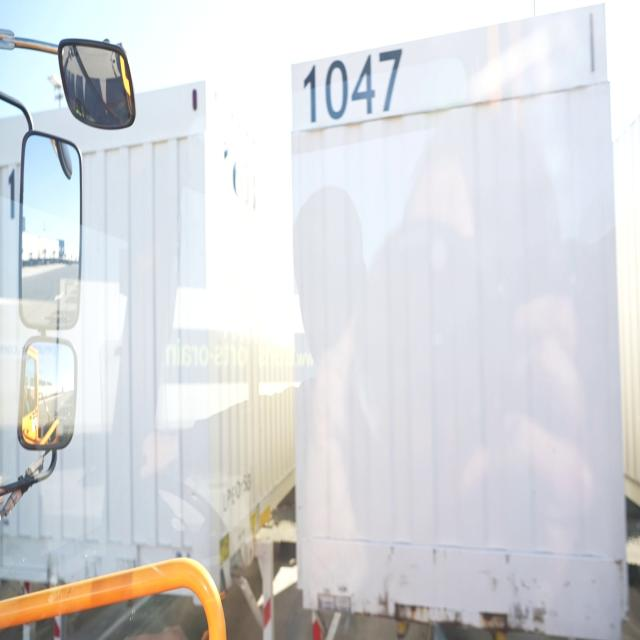Code: (301, 43, 402, 127)
